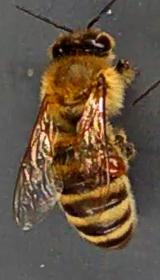varroa_mite: (86, 139, 133, 185)
